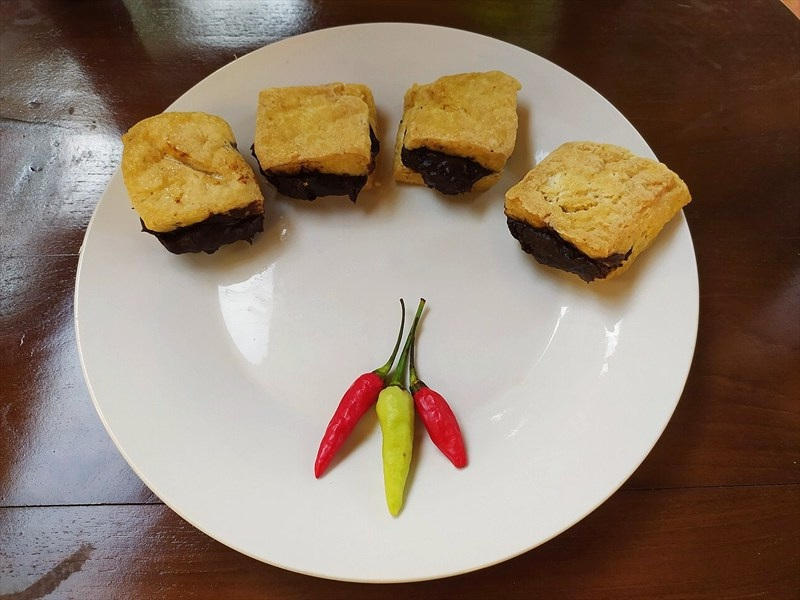Tahu Goreng: (72, 104, 703, 566)
